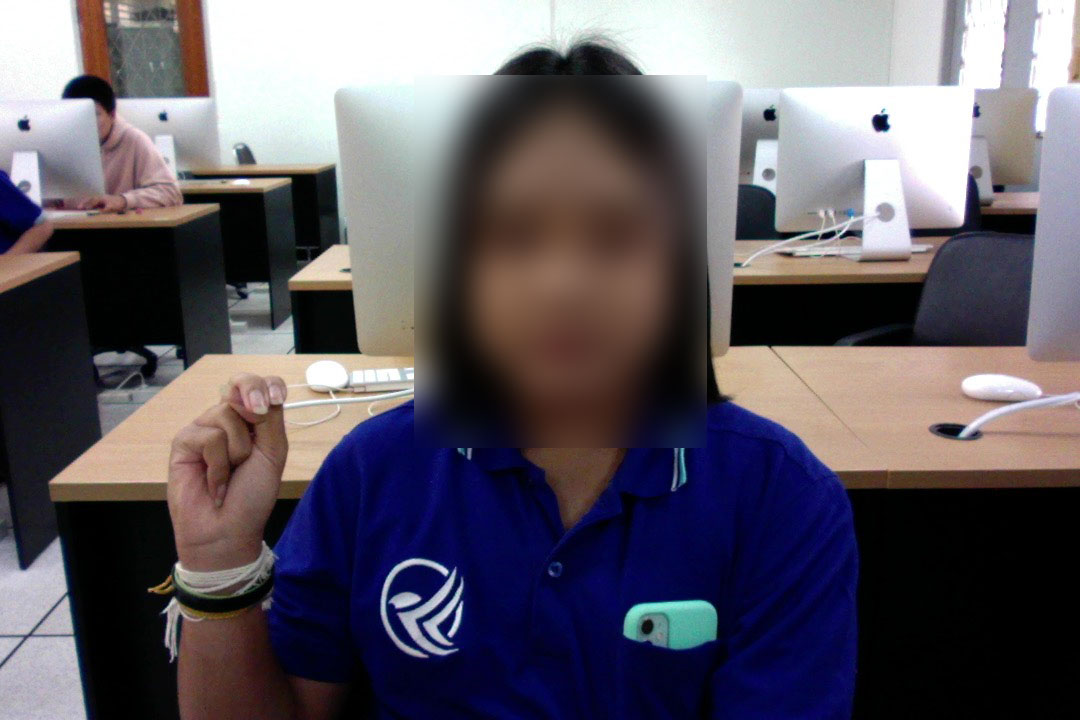nor: (161, 363, 298, 555)
